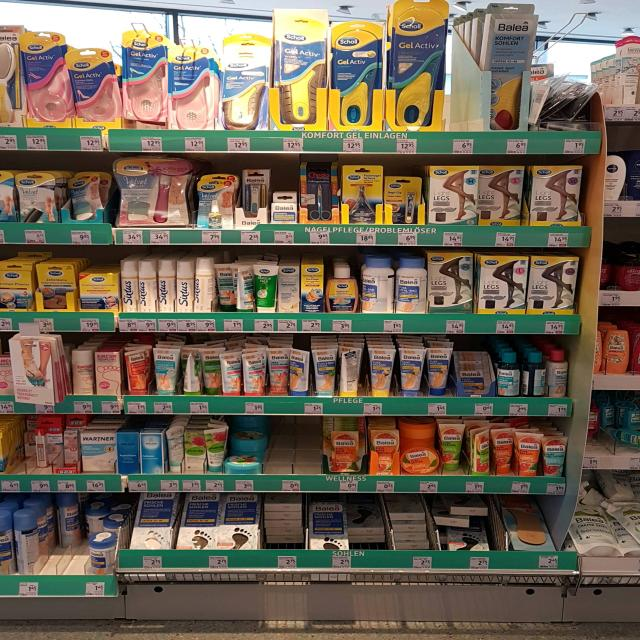unorganised: (67, 42, 121, 123), (439, 499, 489, 552), (360, 256, 396, 315), (67, 170, 107, 222), (217, 262, 253, 311), (184, 349, 219, 396), (122, 349, 151, 395), (521, 347, 547, 396), (55, 496, 78, 551), (339, 349, 364, 396), (289, 346, 311, 396), (472, 429, 493, 477), (164, 426, 182, 473), (61, 432, 80, 469), (87, 505, 105, 535)
